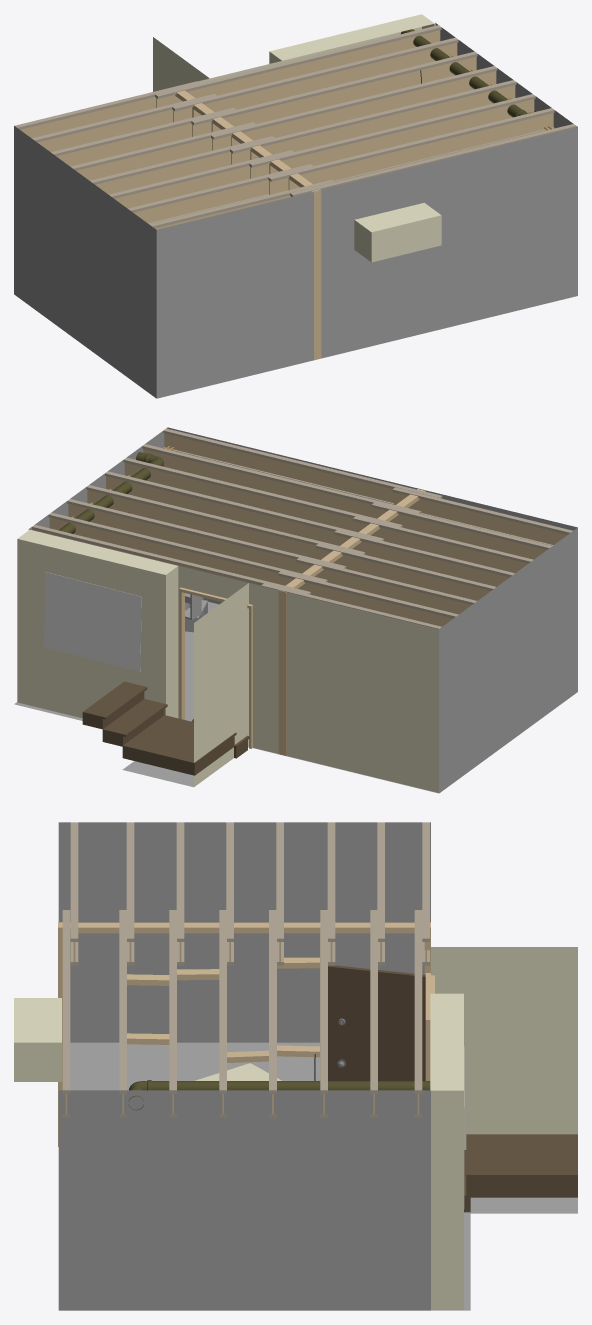
The model's file is basement draft 01.fbx.
3 views of the same model, one above another, from view 1: azimuth 30°, elevation 25°; view 2: azimuth 150°, elevation 25°; view 3: azimuth 270°, elevation 25° (orthographic). The views are drawn at different scales.
Parts seen in each view (by area): view 1: Floor___Walls_x3_geo, pCube51, pCube47, pCube46, pCube48, pCube49, pCube50, pCube44, window_frame_geo, pCube33, pCube41, pCube35 (+10 smaller); view 2: door_wall_geo, Floor___Walls_x3_geo, bulletin_board_geo, pCube52, pCube48, pCube47, pCube49, pCube50, pCube51, pCube46, Stair_2_geo, pCube32 (+15 smaller); view 3: Floor___Walls_x3_geo, door_wall_geo, door_geo, window_frame_geo, stair_4_geo, Stair_2_geo, top_beam_geo, Cast_Iron_Pipe_Geo, pCube44, pCube52, pCube46, pCube47 (+14 smaller).
Boxes of the visible parts, x1=… form: Floor___Walls_x3_geo: x1=14, y1=23, x2=577, y2=398; pCube51: x1=268, y1=108, x2=554, y2=195; pCube47: x1=191, y1=51, x2=477, y2=136; pCube46: x1=172, y1=37, x2=458, y2=122; pCube48: x1=211, y1=66, x2=497, y2=150; pCube49: x1=230, y1=80, x2=516, y2=164; pCube50: x1=249, y1=94, x2=535, y2=178; pCube44: x1=155, y1=25, x2=441, y2=107; window_frame_geo: x1=354, y1=202, x2=441, y2=262; pCube33: x1=128, y1=164, x2=313, y2=224; pCube41: x1=51, y1=107, x2=236, y2=166; pCube35: x1=109, y1=150, x2=293, y2=208; door_wall_geo: x1=17, y1=529, x2=438, y2=792; Floor___Walls_x3_geo: x1=14, y1=427, x2=577, y2=793; bulletin_board_geo: x1=44, y1=572, x2=141, y2=671; pCube52: x1=163, y1=428, x2=442, y2=504; pCube48: x1=86, y1=485, x2=365, y2=558; pCube47: x1=67, y1=499, x2=346, y2=572; pCube49: x1=105, y1=471, x2=383, y2=544; pCube50: x1=123, y1=457, x2=402, y2=531; pCube51: x1=142, y1=444, x2=421, y2=517; pCube46: x1=48, y1=512, x2=327, y2=583; Stair_2_geo: x1=122, y1=715, x2=236, y2=775; pCube32: x1=392, y1=487, x2=572, y2=545; Floor___Walls_x3_geo: x1=58, y1=822, x2=577, y2=1310; door_wall_geo: x1=430, y1=993, x2=463, y2=1309; door_geo: x1=328, y1=965, x2=425, y2=1080; window_frame_geo: x1=14, y1=998, x2=61, y2=1081; stair_4_geo: x1=466, y1=1160, x2=577, y2=1191; Stair_2_geo: x1=466, y1=1134, x2=577, y2=1197; top_beam_geo: x1=70, y1=922, x2=414, y2=933; Cast_Iron_Pipe_Geo: x1=128, y1=1080, x2=430, y2=1110; pCube44: x1=414, y1=910, x2=422, y2=1117; pCube52: x1=62, y1=910, x2=70, y2=1117; pCube46: x1=370, y1=910, x2=377, y2=1117; pCube47: x1=320, y1=910, x2=327, y2=1117.
Bounding box in the file's own units: 205 × 79.3 × 182.
